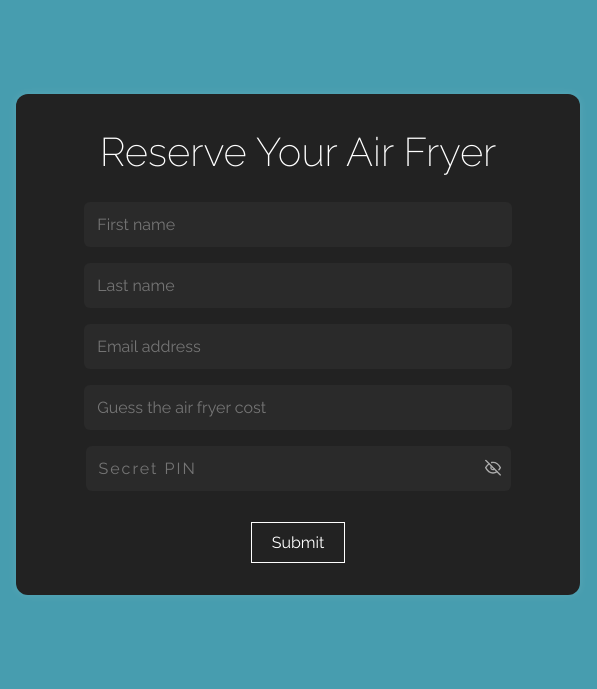
Test: shows error messages on empty submit
The image size is (597, 689).
Click the button "Submit".
click(298, 542)  # box [251, 522, 345, 562]
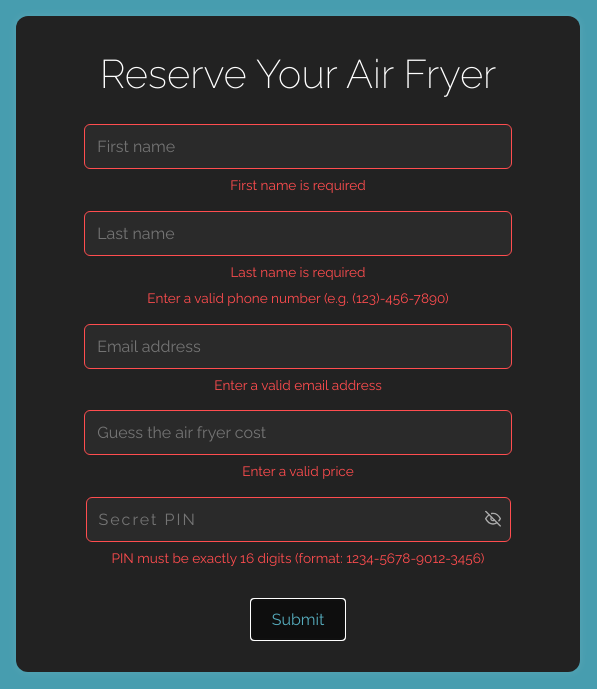
Result: the text "First name is required" is shown at [230, 178, 366, 194]
Result: the text "Last name is required" is shown at [230, 264, 366, 280]
Result: the text "Enter a valid phone number (e.g. (123)-456-7890)" is shown at [147, 290, 449, 306]
